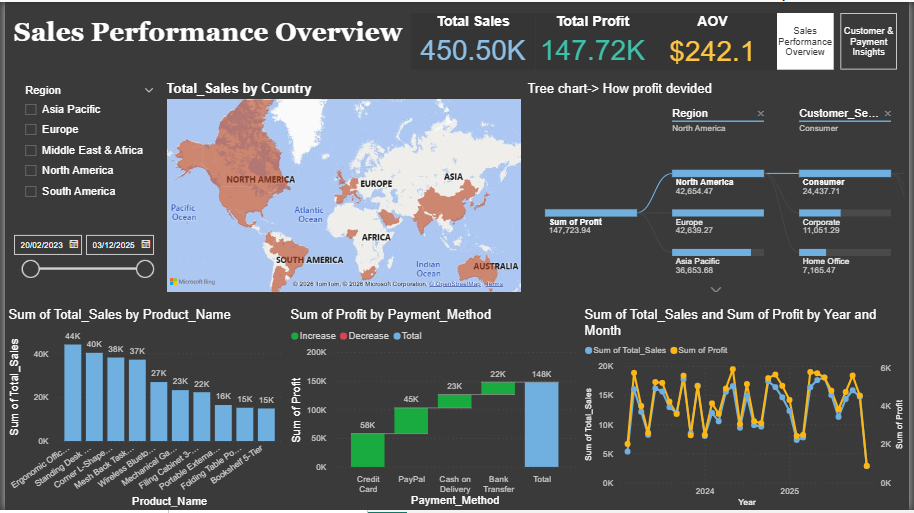

What the dashboard file says about the page in this screenshot:
{"tool":"powerbi","page":{"name":"Sales Performance Overview","canvas":[1280,720],"ordinal":0},"visuals":[{"type":"textbox","box":[0,16,576,64],"z":0},{"type":"card","title":"Total Sales","fields":{"Values":["Sum(sales_data.Total_Sales)"]},"box":[576,16,176,80],"z":1000},{"type":"card","title":"Total Profit","fields":{"Values":["Sum(sales_data.Profit)"]},"box":[752,16,160,80],"z":2000},{"type":"card","title":"AOV","fields":{"Values":["sales_data.AOV"]},"box":[911.3,15.6,182.8,80.8],"z":3000},{"type":"lineChart","fields":{"Y":["Sum(sales_data.Total_Sales)"],"Y2":["Sum(sales_data.Profit)"],"Category":["sales_data.Order_Date.Variation.Date Hierarchy.Year","sales_data.Order_Date.Variation.Date Hierarchy.Month"]},"box":[816,432,464,288],"z":4000},{"type":"filledMap","title":"Total_Sales by Country","fields":{"Category":["sales_data.Country"]},"box":[224,112,512,304],"z":5000},{"type":"columnChart","fields":{"Category":["sales_data.Product_Name"],"Y":["Sum(sales_data.Total_Sales)"]},"box":[0,432,400,288],"z":6000},{"type":"slicer","fields":{"Values":["sales_data.Order_Date"]},"box":[0,320,224,96],"z":7000},{"type":"slicer","fields":{"Values":["sales_data.Region"]},"box":[16,112,208,176],"z":8000},{"type":"decompositionTreeVisual","title":"Tree chart-> How profit devided","fields":{"Analyze":["Sum(sales_data.Profit)"],"ExplainBy":["sales_data.Region","sales_data.Customer_Segment","sales_data.Product_Name"]},"box":[736,112,544,304],"z":9000},{"type":"waterfallChart","fields":{"Category":["sales_data.Payment_Method"],"Y":["Sum(sales_data.Profit)"]},"box":[400,432,416,288],"z":10000},{"type":"pageNavigator","box":[1094.2,15.6,170.1,80.8],"z":11000}]}

Visuals, with their boxes in screenshot pixels (x1, y1, x2, y2), scaled from the page's 1280x720 canvas onto the 914x513 screenshot:
textbox: <bbox>0, 11, 411, 57</bbox>
"Total Sales" card: <bbox>411, 11, 537, 68</bbox>
"Total Profit" card: <bbox>537, 11, 651, 68</bbox>
"AOV" card: <bbox>651, 11, 781, 69</bbox>
lineChart - Sum(sales_data.Total_Sales) x Sum(sales_data.Profit): <bbox>583, 308, 913, 512</bbox>
"Total_Sales by Country" filledMap: <bbox>160, 80, 526, 296</bbox>
columnChart - sales_data.Product_Name x Sum(sales_data.Total_Sales): <bbox>0, 308, 286, 512</bbox>
slicer - sales_data.Order_Date: <bbox>0, 228, 160, 296</bbox>
slicer - sales_data.Region: <bbox>11, 80, 160, 205</bbox>
"Tree chart-> How profit devided" decompositionTreeVisual: <bbox>526, 80, 913, 296</bbox>
waterfallChart - sales_data.Payment_Method x Sum(sales_data.Profit): <bbox>286, 308, 583, 512</bbox>
pageNavigator: <bbox>781, 11, 903, 69</bbox>
